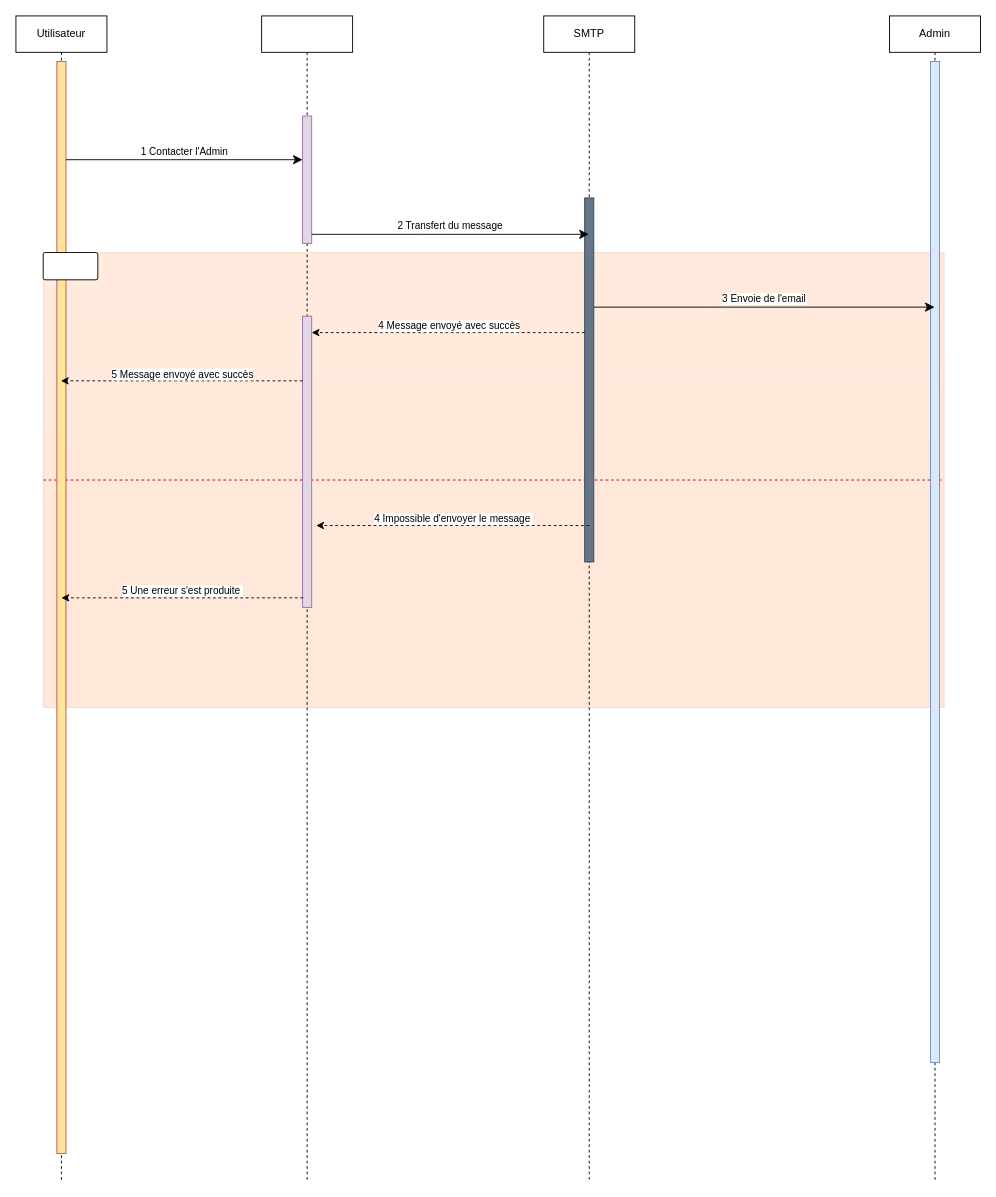
Some shapes in this 996 by 1197 pixel diagram are drawn without their labels. The centre of each missing label's shape, as x and y in pixels:
alt: (x=70, y=266)
System: (x=307, y=598)
